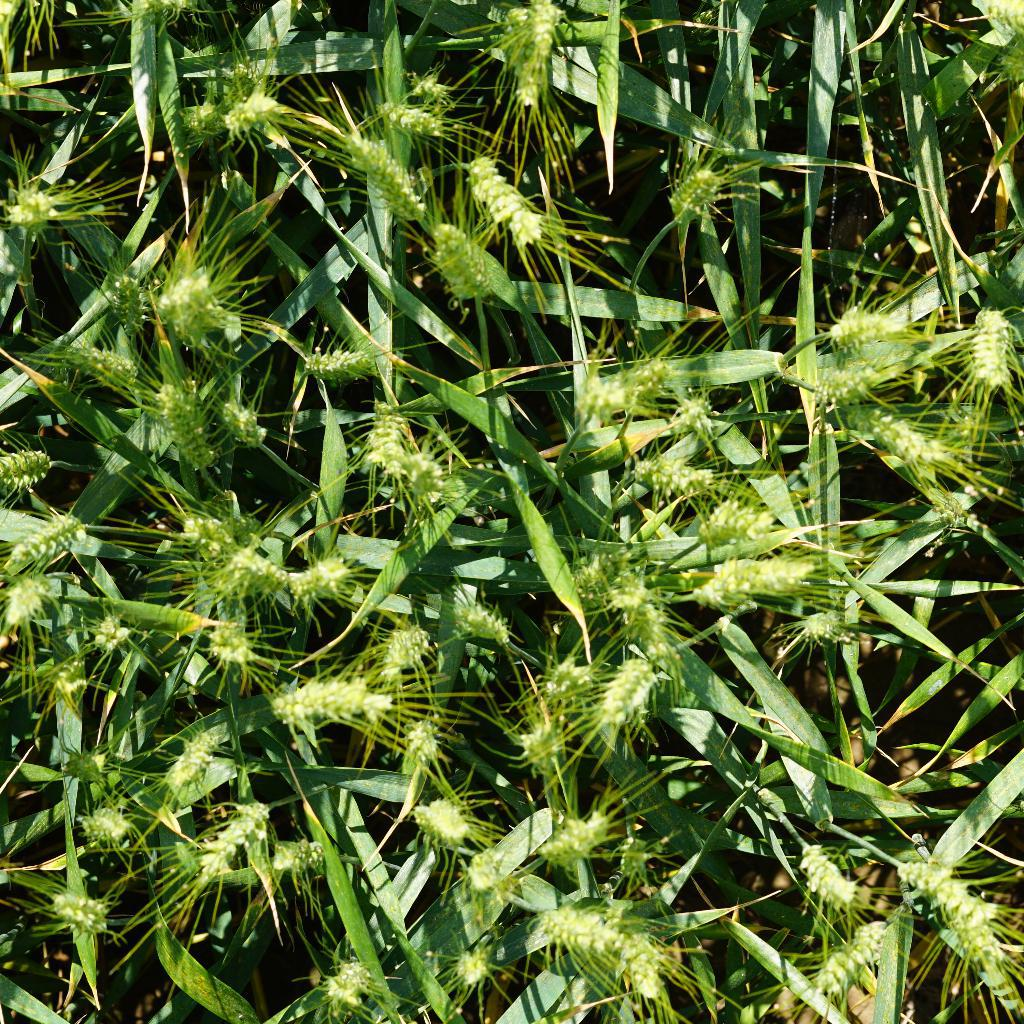0-0: (802, 904, 897, 1016), (894, 853, 1005, 946), (330, 123, 427, 226), (189, 792, 281, 894), (463, 148, 545, 250), (256, 673, 401, 728), (697, 562, 837, 618), (791, 837, 886, 918), (529, 797, 623, 878), (845, 403, 956, 470), (585, 655, 672, 733), (527, 894, 616, 970), (947, 915, 1022, 1005), (654, 156, 746, 225), (603, 921, 675, 1007), (316, 0, 411, 64), (621, 447, 720, 507), (153, 267, 230, 343), (301, 952, 393, 1012), (298, 334, 392, 392), (707, 821, 774, 901), (430, 221, 494, 303), (151, 383, 212, 468), (402, 796, 480, 860), (448, 582, 514, 656), (509, 718, 580, 785), (2, 516, 88, 569), (71, 800, 152, 855), (366, 93, 455, 143), (439, 947, 511, 1008), (167, 726, 225, 799), (369, 616, 437, 677), (551, 546, 612, 612), (975, 568, 1024, 650), (369, 396, 417, 479), (8, 174, 67, 241), (980, 673, 1024, 762), (697, 497, 778, 545), (818, 306, 903, 351), (458, 841, 520, 901), (286, 557, 356, 610), (608, 819, 664, 885), (218, 548, 285, 603), (67, 342, 140, 392), (52, 880, 113, 939), (808, 368, 883, 414), (400, 444, 450, 509), (4, 571, 60, 629), (172, 517, 241, 563), (0, 440, 53, 497), (671, 6, 728, 57), (33, 660, 93, 708), (222, 87, 275, 141), (539, 652, 594, 704), (217, 400, 275, 449), (621, 357, 669, 416), (574, 378, 624, 434), (405, 714, 450, 776), (283, 826, 331, 884), (127, 0, 205, 35), (54, 741, 118, 782), (628, 604, 674, 661), (103, 271, 147, 330), (199, 621, 256, 665), (924, 487, 971, 537), (673, 392, 721, 439), (970, 335, 1008, 394), (225, 58, 271, 105), (528, 0, 560, 61), (217, 503, 267, 542), (609, 574, 650, 619), (974, 1, 1024, 37), (796, 612, 847, 647), (93, 614, 135, 653), (406, 65, 451, 101), (181, 98, 222, 137), (985, 44, 1024, 85), (513, 51, 540, 110), (972, 302, 1011, 341), (493, 8, 529, 47)
